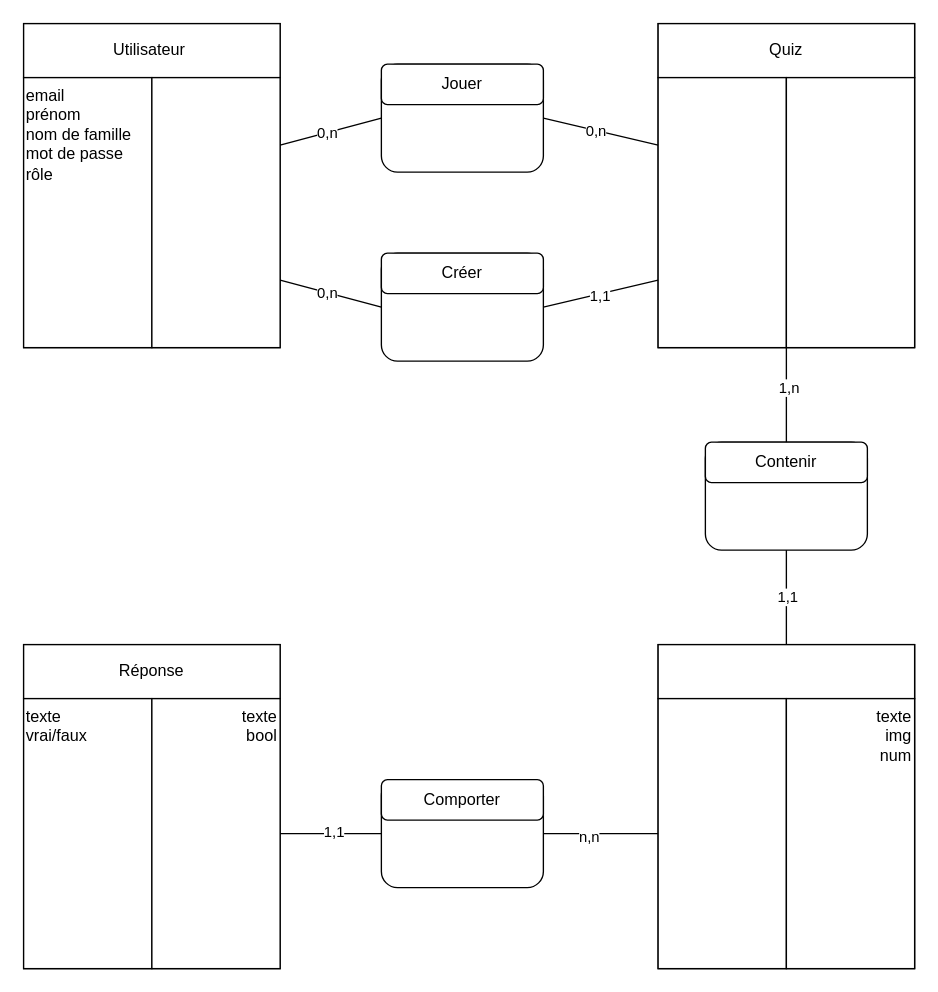
This 938x992 diagram has some shape labels left out. The shapes that lost their labels are listed below. From the top down, each one's box as (x1, y1, x2, y2) in pixels, then its label:
(151, 76, 280, 348): email texte texte texte num
(657, 76, 786, 348): titre vues thème auteur
(785, 76, 915, 348): texte num texte texte
(657, 643, 915, 699): Question
(657, 697, 786, 969): texte image ordre
